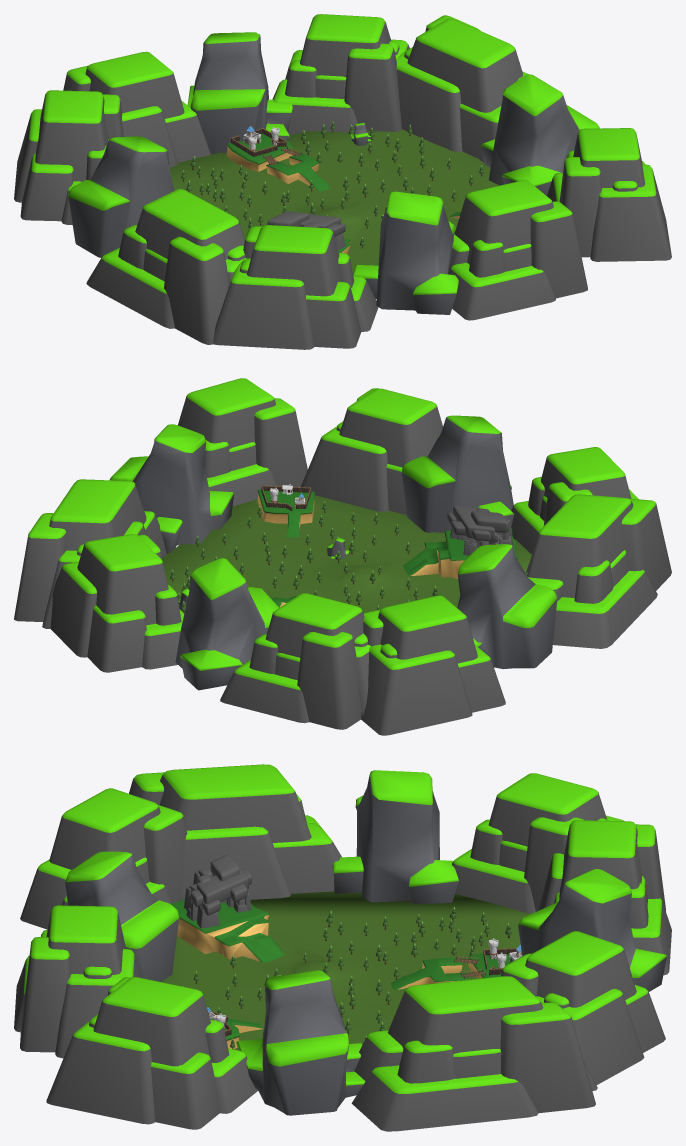
The model's file is proje1234.fbx.
The picture shows the model from 3 angles, top to bottom: view 1: azimuth 30°, elevation 25°; view 2: azimuth 150°, elevation 25°; view 3: azimuth 270°, elevation 25°; orthographic projection. The views are drawn at different scales.
Visible parts, largest first — view 1: Plane, Rocks_1_2.001, Rocks_1_2.007, Rocks_1_2, Rocks_1_2.005, Rocks_1_2.003, Rocks_1_2.004, Rocks_1_2.006, Cube.0032, Cube.0112, Cube.0122, Cube.0132 (+4 smaller); view 2: Plane, Rocks_1_2.007, Rocks_1_2.006, Rocks_1_2.002, Rocks_1_2.003, Rocks_1_2, Rocks_1_2.004, Rocks_1_2.005, Cube.0132, Cube.0032, Cube.0112, Cube.0122 (+5 smaller); view 3: Rocks_1_2.005, Plane, Rocks_1_2.004, Rocks_1_2.007, Rocks_1_2.003, Cube.0122, Rocks_1_2, Rocks_1_2.006, Cube.0132, Rocks_1_2.001, Rocks_1_2.002, Cube.0032 (+6 smaller).
Boxes of the visible parts, x1,y1,x2,y2 form: Plane: [169, 129, 499, 274]; Rocks_1_2.001: [213, 225, 378, 349]; Rocks_1_2.007: [86, 189, 245, 344]; Rocks_1_2: [448, 180, 587, 320]; Rocks_1_2.005: [396, 15, 528, 162]; Rocks_1_2.003: [272, 14, 409, 135]; Rocks_1_2.004: [547, 128, 671, 261]; Rocks_1_2.006: [14, 90, 123, 224]; Cube.0032: [353, 191, 458, 314]; Cube.0112: [187, 32, 292, 154]; Cube.0122: [480, 74, 600, 195]; Cube.0132: [68, 136, 174, 257]; Plane: [161, 495, 531, 613]; Rocks_1_2.007: [526, 494, 671, 648]; Rocks_1_2.006: [361, 595, 505, 735]; Rocks_1_2.002: [220, 593, 370, 729]; Rocks_1_2.003: [45, 534, 184, 672]; Rocks_1_2: [301, 388, 442, 514]; Rocks_1_2.004: [178, 378, 307, 506]; Rocks_1_2.005: [14, 479, 166, 628]; Cube.0132: [457, 544, 557, 669]; Cube.0032: [402, 415, 514, 532]; Cube.0112: [175, 558, 278, 690]; Cube.0122: [109, 424, 233, 553]; Rocks_1_2.005: [351, 976, 597, 1131]; Plane: [161, 891, 531, 1050]; Rocks_1_2.004: [46, 977, 258, 1129]; Rocks_1_2.007: [129, 764, 341, 899]; Rocks_1_2.003: [501, 931, 665, 1085]; Cube.0122: [236, 970, 365, 1115]; Rocks_1_2: [14, 905, 141, 1058]; Rocks_1_2.006: [452, 773, 623, 913]; Cube.0132: [332, 770, 458, 904]; Rocks_1_2.001: [20, 788, 187, 929]; Rocks_1_2.002: [538, 820, 671, 975]; Cube.0032: [65, 851, 179, 981].
Bounding box in the file's own units: 30002 × 5593 × 28983.
